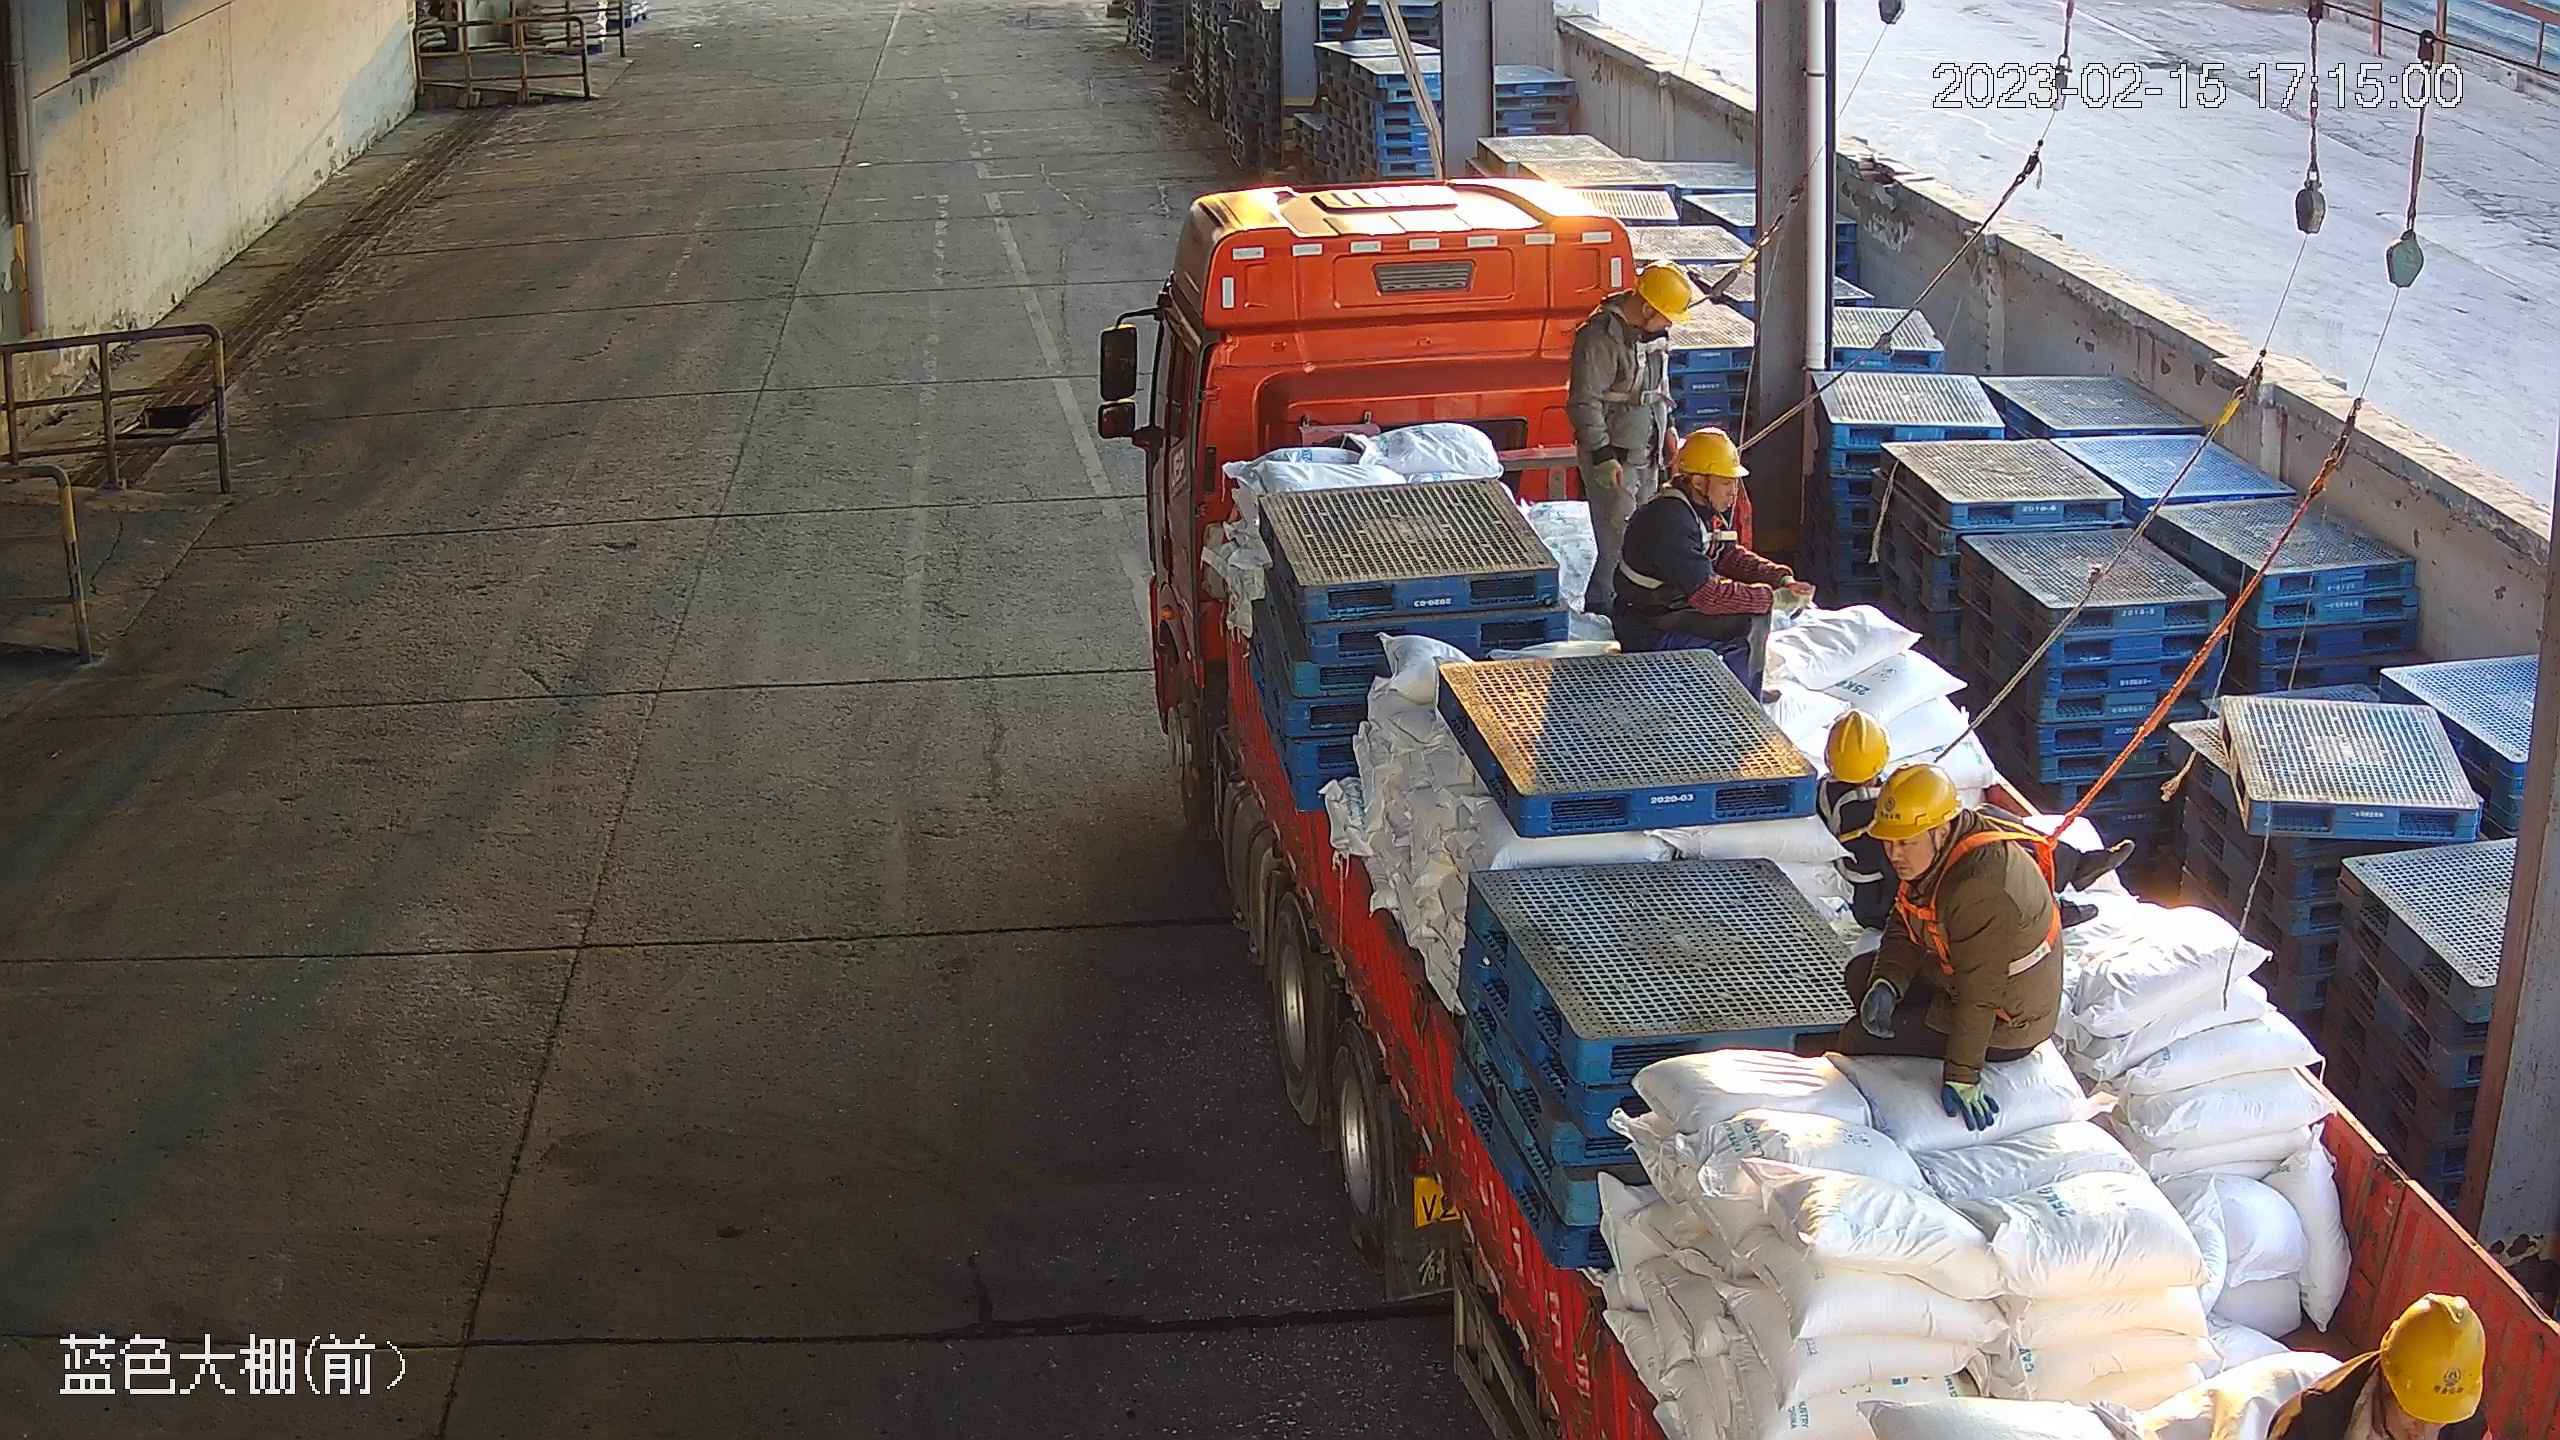belt: (1892, 811, 2063, 980), (1616, 485, 1738, 588), (1585, 301, 1678, 410), (1819, 775, 1888, 884)
head: (1867, 765, 2026, 923), (1636, 428, 1750, 530), (1577, 258, 1694, 357), (1815, 711, 1891, 818)
helmet: (2378, 1291, 2486, 1424), (1867, 765, 1965, 839), (1825, 711, 1890, 783), (1671, 426, 1750, 479), (1633, 257, 1692, 323)
people: (1838, 764, 2062, 1132), (1815, 710, 2137, 933), (1611, 427, 1816, 708), (1566, 256, 1693, 620)
truck: (1086, 176, 2560, 1440)
